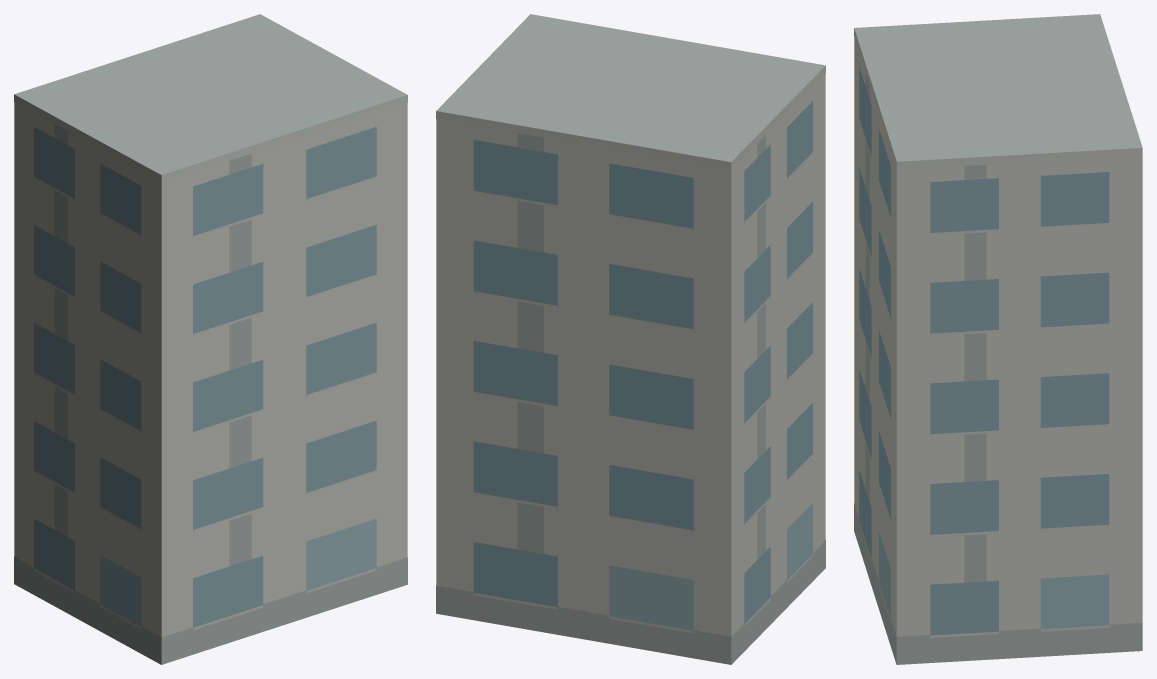
The model's file is residential-0027d99a-bfda-4e4a-a5ad-ee68cc1055f4.glb.
3 renders of one model, left to right at view 1: azimuth 30°, elevation 25°; view 2: azimuth 150°, elevation 25°; view 3: azimuth 270°, elevation 25°, orthographic. The views are drawn at different scales.
Parts seen in each view (by area): view 1: residential-0027d99a-bfda-4e4a-a5ad-ee68cc1055f4.tmp; view 2: residential-0027d99a-bfda-4e4a-a5ad-ee68cc1055f4.tmp; view 3: residential-0027d99a-bfda-4e4a-a5ad-ee68cc1055f4.tmp.
Part boxes in pixels (left/top/right/bottom): residential-0027d99a-bfda-4e4a-a5ad-ee68cc1055f4.tmp: left=14, top=14, right=407, bottom=664; residential-0027d99a-bfda-4e4a-a5ad-ee68cc1055f4.tmp: left=436, top=14, right=825, bottom=664; residential-0027d99a-bfda-4e4a-a5ad-ee68cc1055f4.tmp: left=854, top=14, right=1142, bottom=664.
Bounding box in the file's own units: 9.61 × 15.25 × 7.94.
